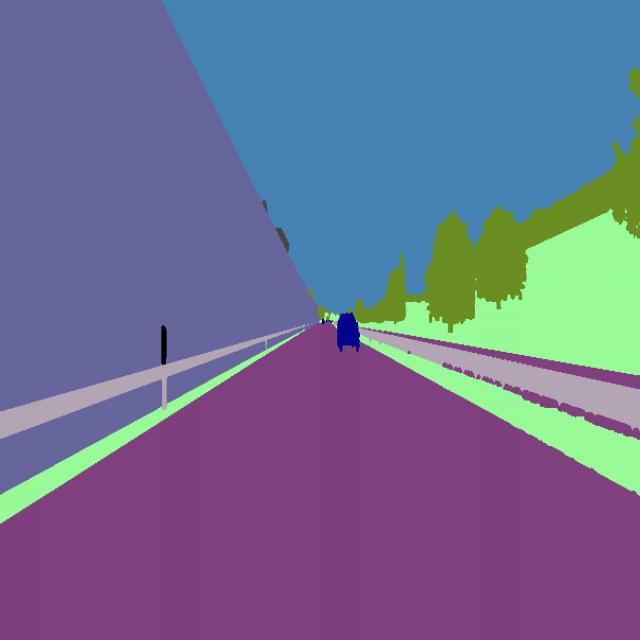safe: (333, 310, 361, 354)
